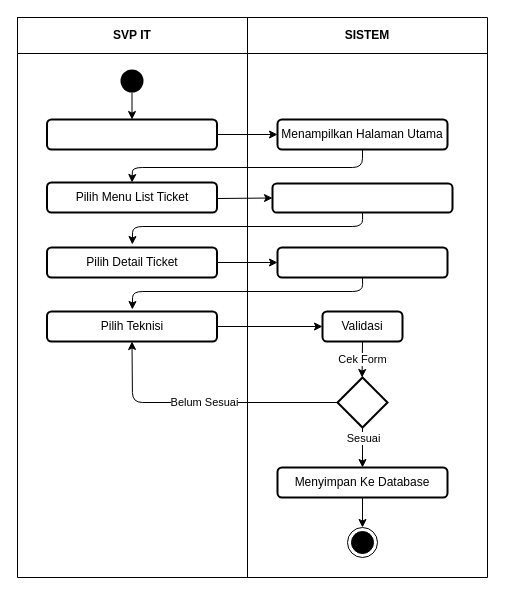
The diagram is 505 pixels wide and 595 high, and some of its shapes have lost their labels. The centre of each missing label's shape, as x and y in pixels:
"Membuka Halaman Utama" goes at (x=132, y=134).
"Menampilkan Detail Ticket" goes at (x=362, y=262).
"Menampilkan Tabel List Ticket" goes at (x=362, y=197).
